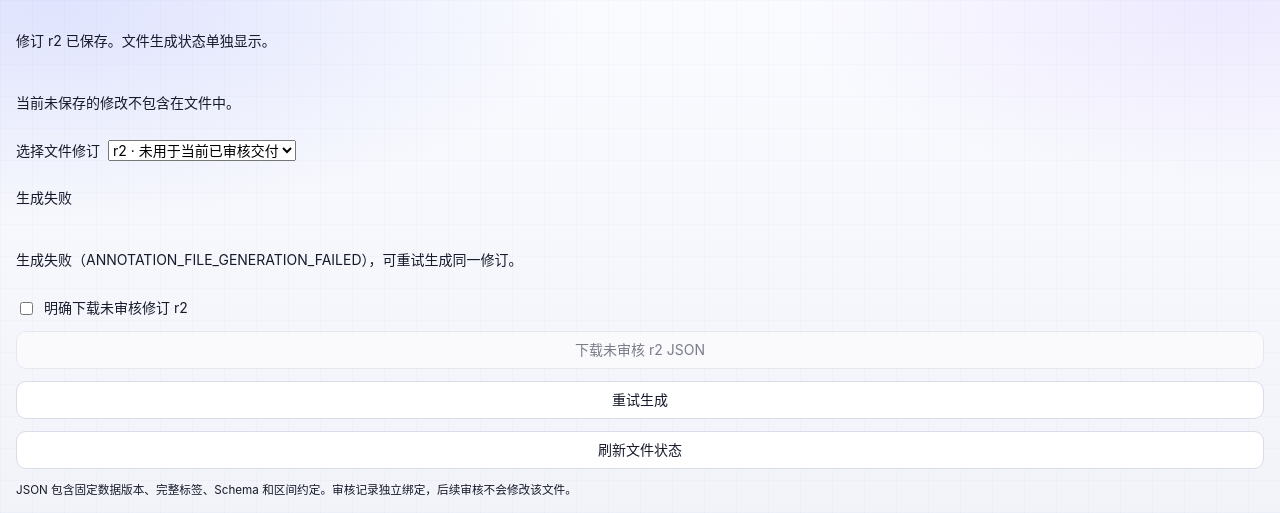
Test case: versioned annotation file actions › shows saved revision separately from a failed file and retries that generation
The width and height of the screenshot is (1280, 513).
Expected: the text "修订 r2 已保存。文件生成状态单独显示。" is shown, [16, 32, 276, 49]
Expected: the text "生成失败（ANNOTATION_FILE_GENERATION_FAILED），可重试生成同一修订。" is shown, [16, 251, 522, 268]
Click the button "重试生成": click(640, 400) [16, 381, 1264, 419]
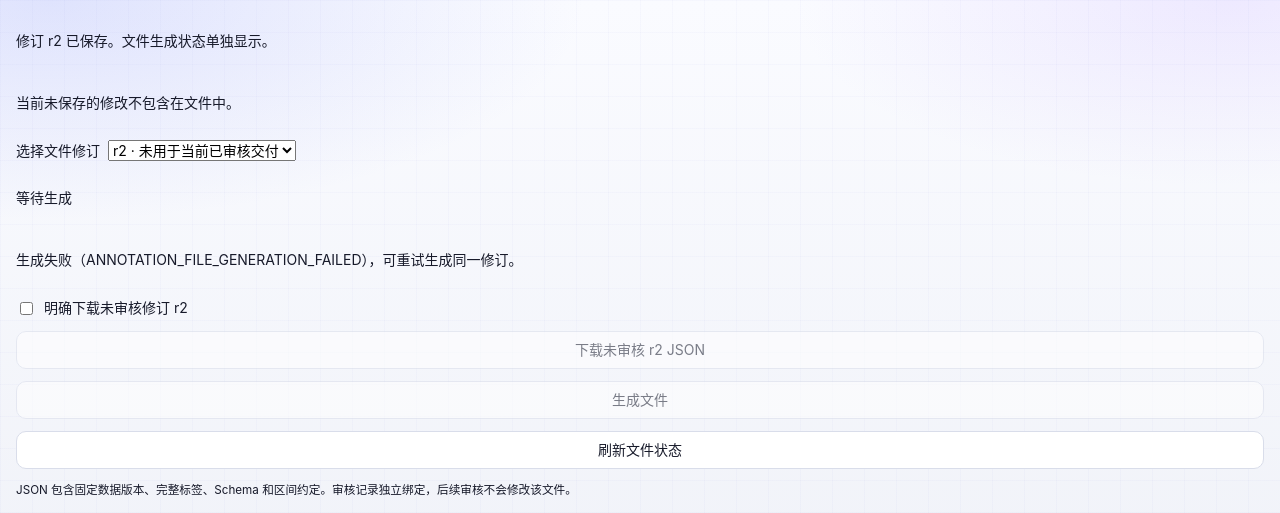
Expected: the text "等待生成" is shown, [16, 190, 72, 206]
